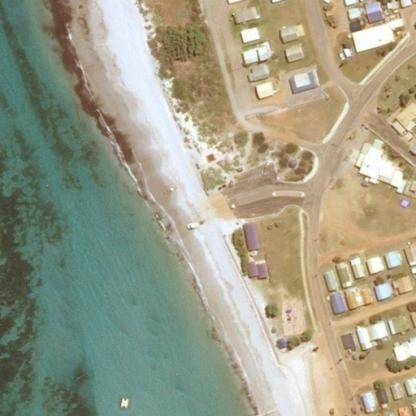ship: (120, 396, 128, 408)
